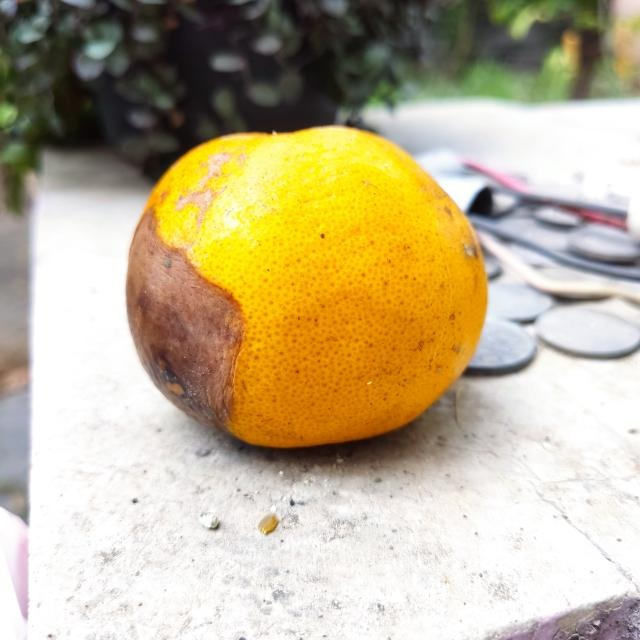agrume: (126, 125, 490, 447)
